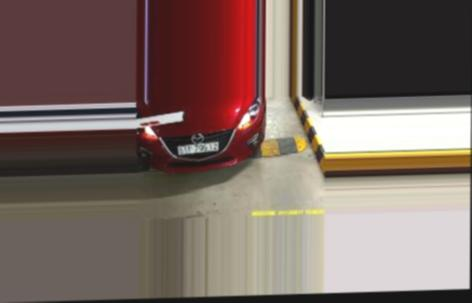License_Plate: (177, 138, 220, 157)
